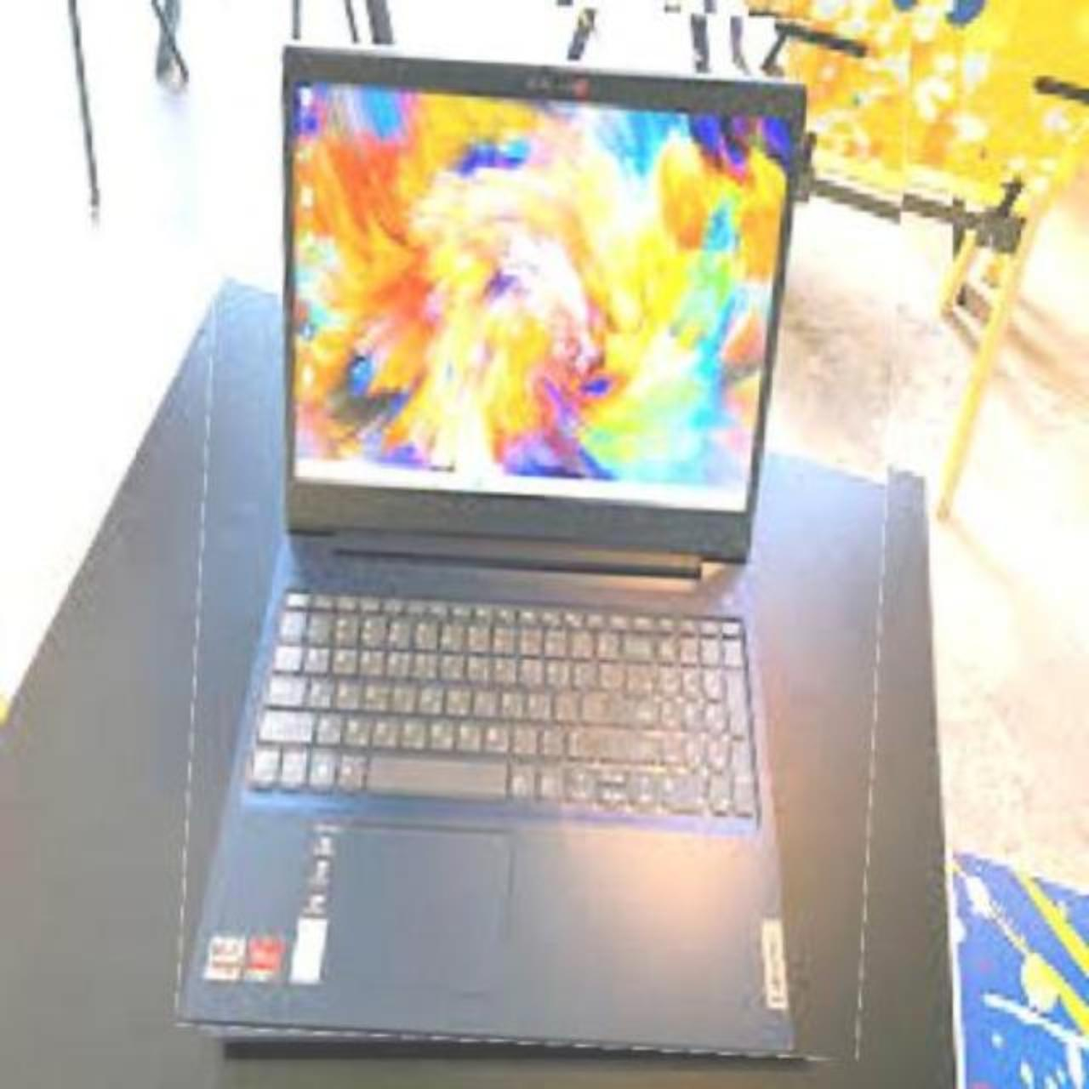laptop: (190, 0, 896, 1048)
